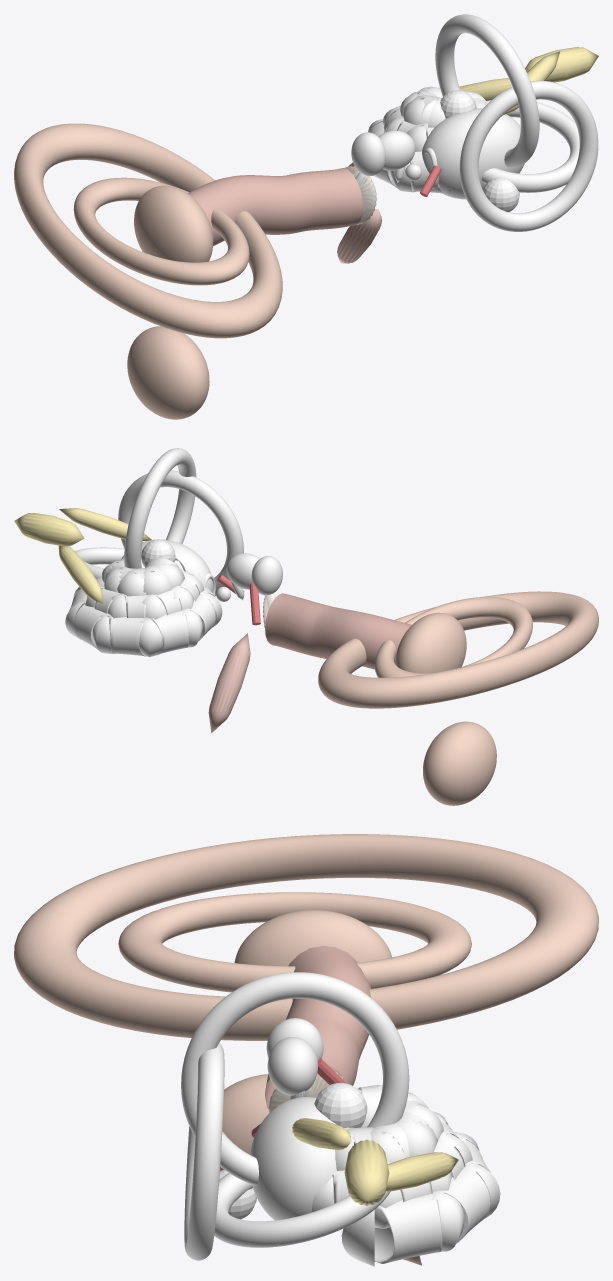
Rendered from ear_realistic.glb.
3 renders of one model, top to bottom at view 1: azimuth 30°, elevation 25°; view 2: azimuth 150°, elevation 25°; view 3: azimuth 270°, elevation 25°, orthographic. The views are drawn at different scales.
Visible parts, largest first — view 1: Pinna_Helix, External_Auditory_Canal, Posterior_Semicircular_Canal, Pinna_Antihelix, Pinna_Lobule, Anterior_Semicircular_Canal, Pinna_Concha, Vestibule_Chamber, Cochlea_Spiral_Shell, Lateral_Semicircular_Canal, Vestibulocochlear_Nerve_CN_VIII, Eustachian_Tube (+7 smaller); view 2: Pinna_Helix, Cochlea_Spiral_Shell, External_Auditory_Canal, Pinna_Lobule, Pinna_Antihelix, Anterior_Semicircular_Canal, Pinna_Concha, Posterior_Semicircular_Canal, Eustachian_Tube, Vestibulocochlear_Nerve_CN_VIII, Cochlear_Nerve, Vestibular_Nerve (+5 smaller); view 3: Pinna_Helix, Pinna_Antihelix, Cochlea_Spiral_Shell, Anterior_Semicircular_Canal, Vestibule_Chamber, Posterior_Semicircular_Canal, Pinna_Concha, External_Auditory_Canal, Lateral_Semicircular_Canal, Pinna_Lobule, Vestibulocochlear_Nerve_CN_VIII, Incus_Anvil (+6 smaller).
Boxes of the visible parts, <box> form: Pinna_Helix: <box>14,123,282,338</box>; External_Auditory_Canal: <box>187,168,363,246</box>; Posterior_Semicircular_Canal: <box>459,80,598,231</box>; Pinna_Antihelix: <box>73,177,249,285</box>; Pinna_Lobule: <box>127,326,209,419</box>; Anterior_Semicircular_Canal: <box>435,14,539,167</box>; Pinna_Concha: <box>134,185,213,262</box>; Vestibule_Chamber: <box>422,108,524,199</box>; Cochlea_Spiral_Shell: <box>368,86,520,193</box>; Lateral_Semicircular_Canal: <box>481,100,579,192</box>; Vestibulocochlear_Nerve_CN_VIII: <box>525,47,598,82</box>; Eustachian_Tube: <box>337,209,382,263</box>; Pinna_Helix: <box>318,591,598,708</box>; Cochlea_Spiral_Shell: <box>65,555,222,657</box>; External_Auditory_Canal: <box>265,593,411,669</box>; Pinna_Lobule: <box>423,721,496,805</box>; Pinna_Antihelix: <box>374,597,532,677</box>; Anterior_Semicircular_Canal: <box>124,448,196,568</box>; Pinna_Concha: <box>395,612,466,673</box>; Posterior_Semicircular_Canal: <box>118,470,243,596</box>; Eustachian_Tube: <box>208,633,250,733</box>; Vestibulocochlear_Nerve_CN_VIII: <box>14,513,84,546</box>; Cochlear_Nerve: <box>58,545,103,603</box>; Vestibular_Nerve: <box>59,508,151,540</box>; Pinna_Helix: <box>14,834,598,1040</box>; Pinna_Antihelix: <box>118,892,471,992</box>; Cochlea_Spiral_Shell: <box>312,1085,500,1266</box>; Anterior_Semicircular_Canal: <box>181,972,409,1185</box>; Vestibule_Chamber: <box>250,1097,336,1220</box>; Posterior_Semicircular_Canal: <box>184,1043,224,1260</box>; Pinna_Concha: <box>234,910,391,966</box>; External_Auditory_Canal: <box>265,945,371,1109</box>; Lateral_Semicircular_Canal: <box>214,1161,390,1247</box>; Pinna_Lobule: <box>220,1074,269,1171</box>; Vestibulocochlear_Nerve_CN_VIII: <box>344,1139,389,1205</box>; Incus_Anvil: <box>267,1037,317,1095</box>.
Bounding box in the file's own units: 12.33 × 6.41 × 7.74.
